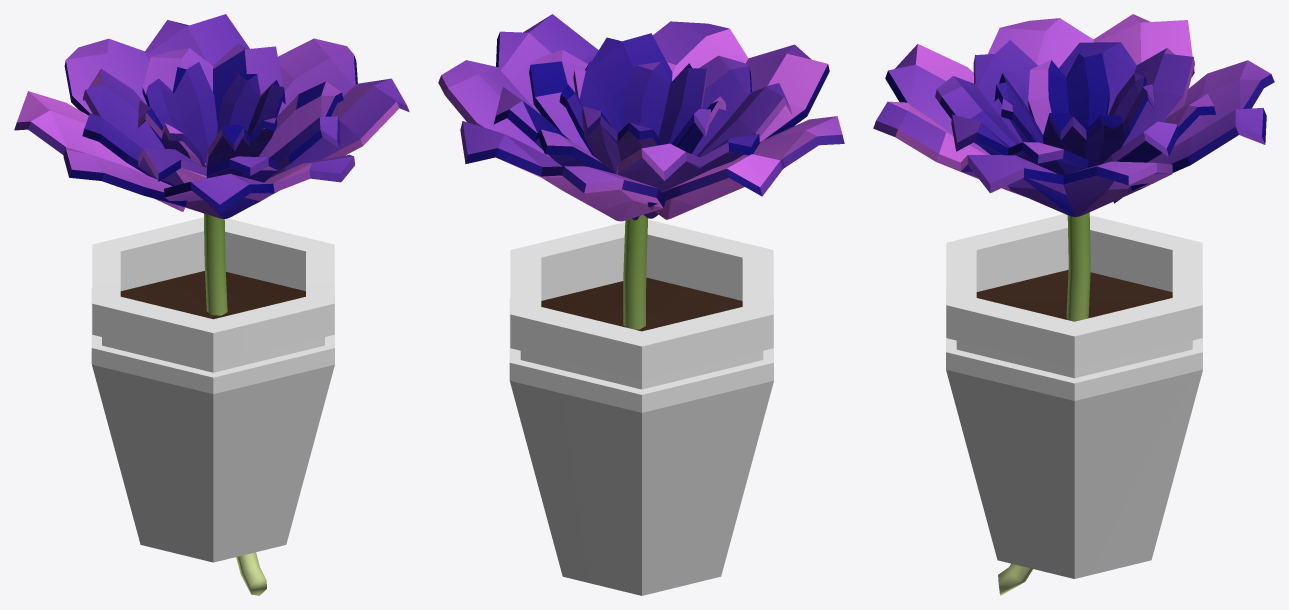
Rendered from Vase.fbx.
The picture shows the model from 3 angles, left to right: view 1: azimuth 30°, elevation 25°; view 2: azimuth 150°, elevation 25°; view 3: azimuth 270°, elevation 25°; orthographic projection. The views are drawn at different scales.
Parts seen in each view (by area): view 1: Vase_LOD0; view 2: Vase_LOD0; view 3: Vase_LOD0.
Part boxes in pixels (x1,y1,x2,y2): Vase_LOD0: (14,14,409,595); Vase_LOD0: (438,14,844,595); Vase_LOD0: (873,14,1274,595).
Bounding box in the file's own units: 78.03 × 110 × 78.43.
